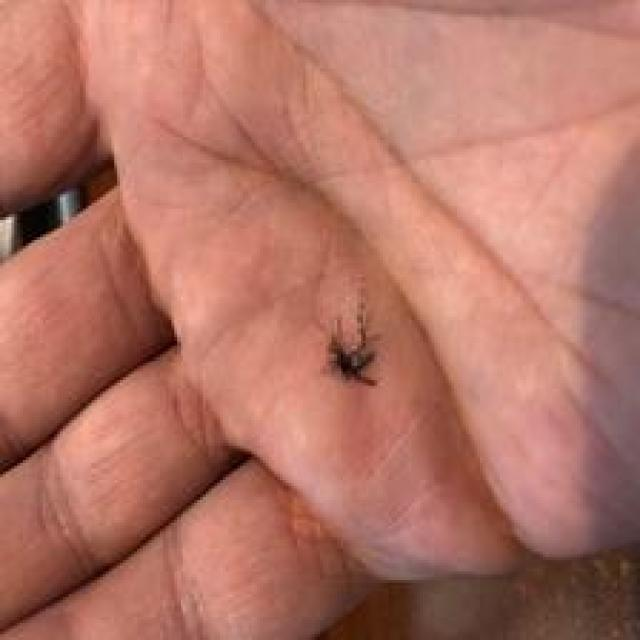Aedes albopictus: (323, 279, 383, 387)
